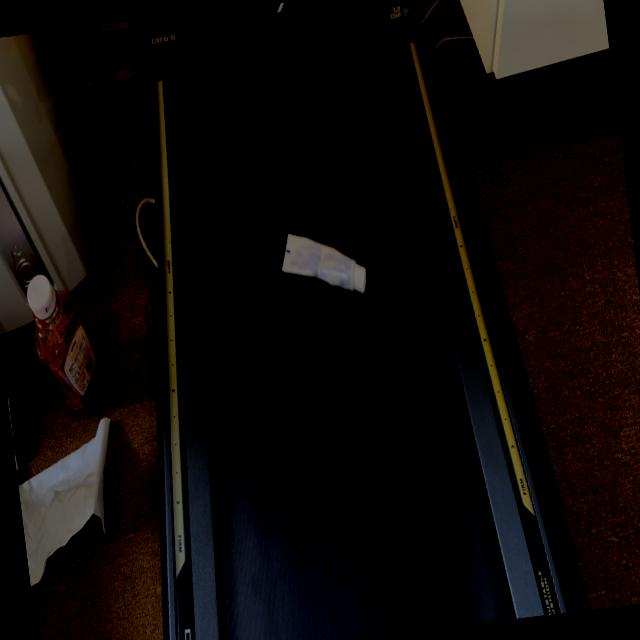Trash: (272, 218, 370, 308)
